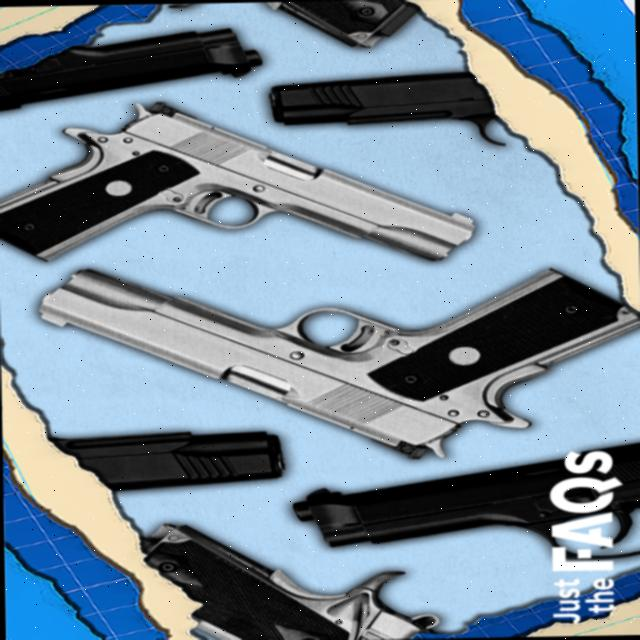Handgun: (24, 248, 624, 464), (0, 92, 527, 292), (300, 411, 640, 560), (63, 526, 477, 640)
